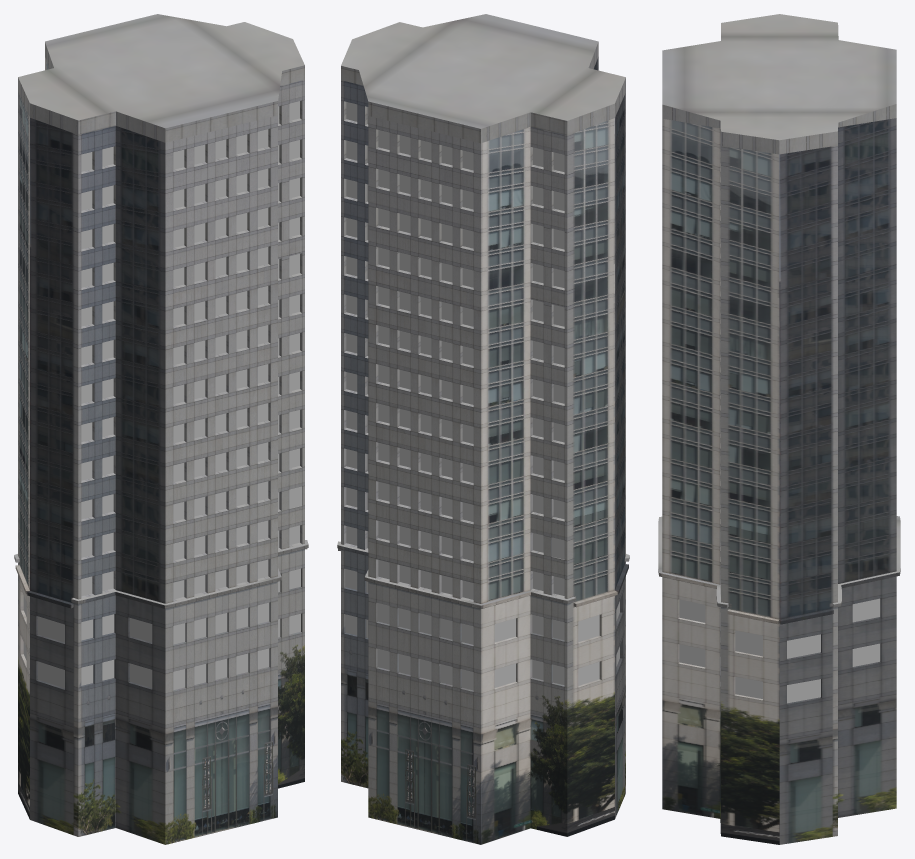
The model's file is HighBuildings.fbx.
The picture shows the model from 3 angles, left to right: view 1: azimuth 30°, elevation 25°; view 2: azimuth 150°, elevation 25°; view 3: azimuth 270°, elevation 25°; orthographic projection.
Visible parts, largest first — view 1: building2; view 2: building2; view 3: building2.
Part boxes in pixels (bbox=[...]): building2: bbox=[14, 14, 308, 844]; building2: bbox=[337, 14, 629, 844]; building2: bbox=[658, 14, 900, 844].
Bounding box in the file's own units: 0.8311 × 2.11 × 0.6574.
